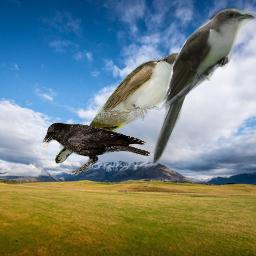Crow: (41, 122, 150, 175)
Cuckoo: (52, 51, 210, 165), (148, 6, 256, 167)
